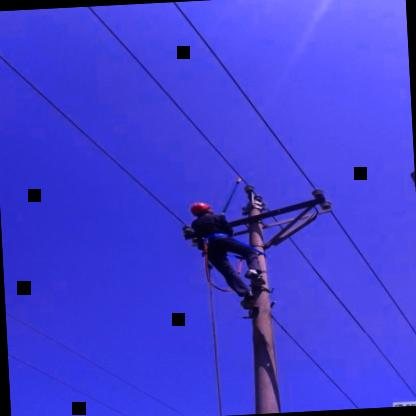helmet: (186, 198, 216, 220)
